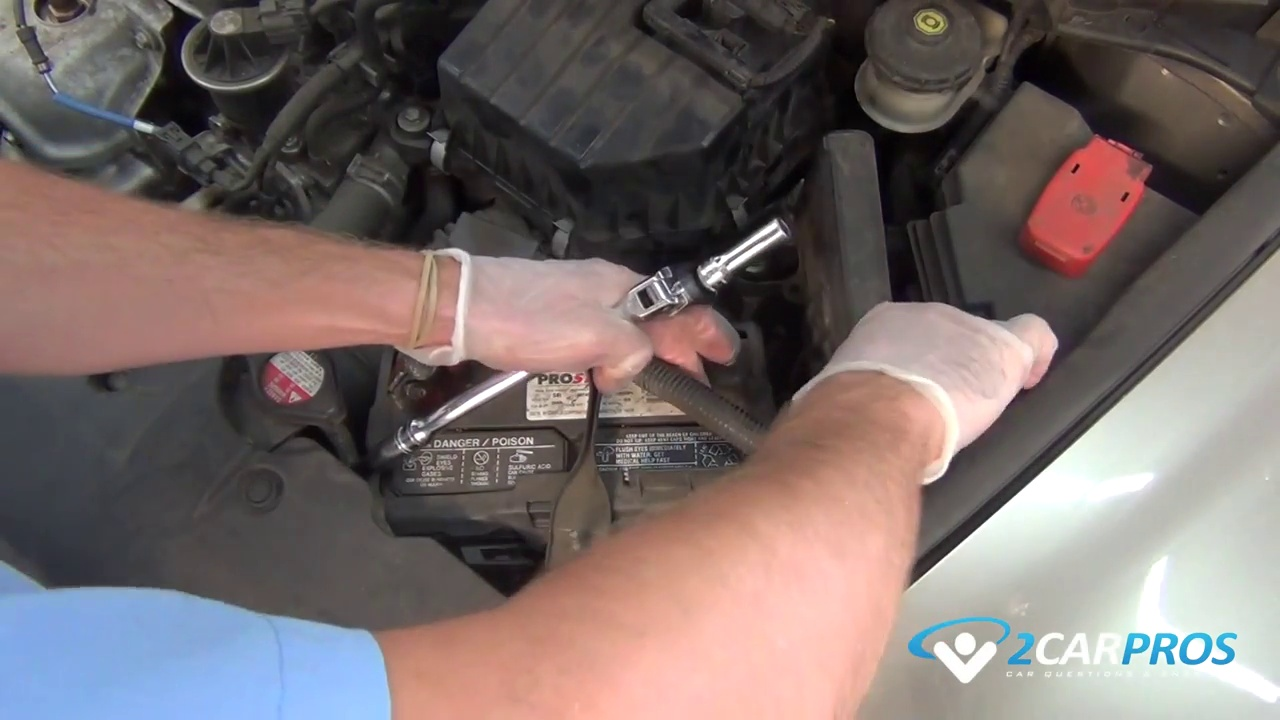battery: (378, 320, 779, 519)
